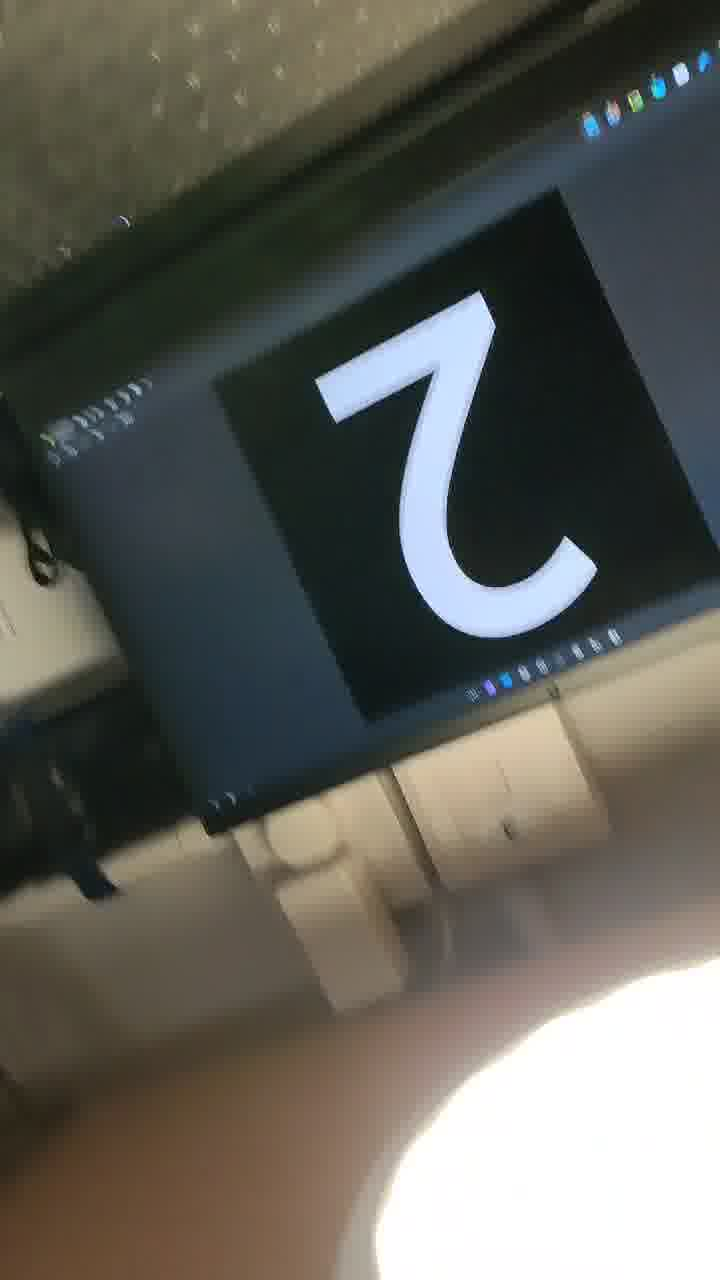two: (310, 283, 608, 659)
